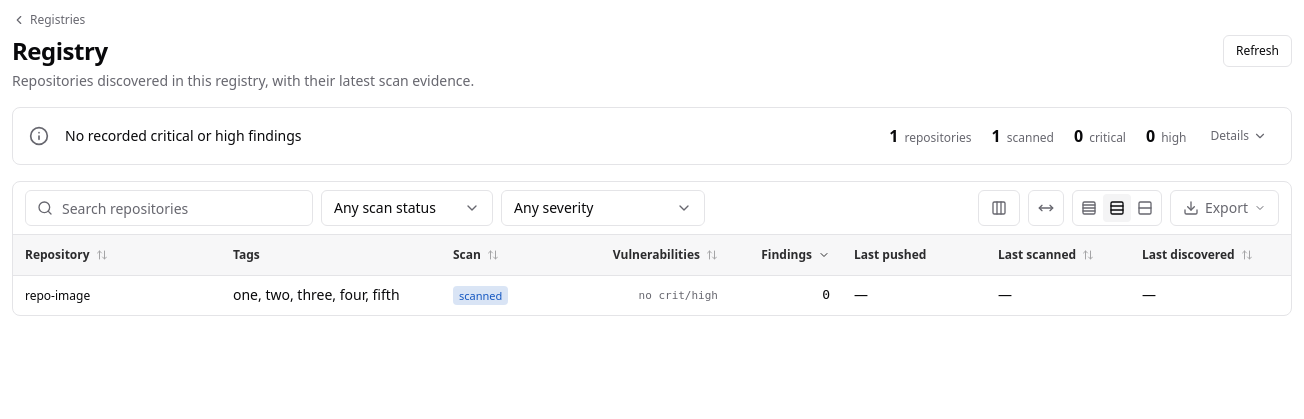
Test: reports matching CSV errors without success
Press Enter in the button "Export", box left=1170, top=190, right=1279, bottom=226
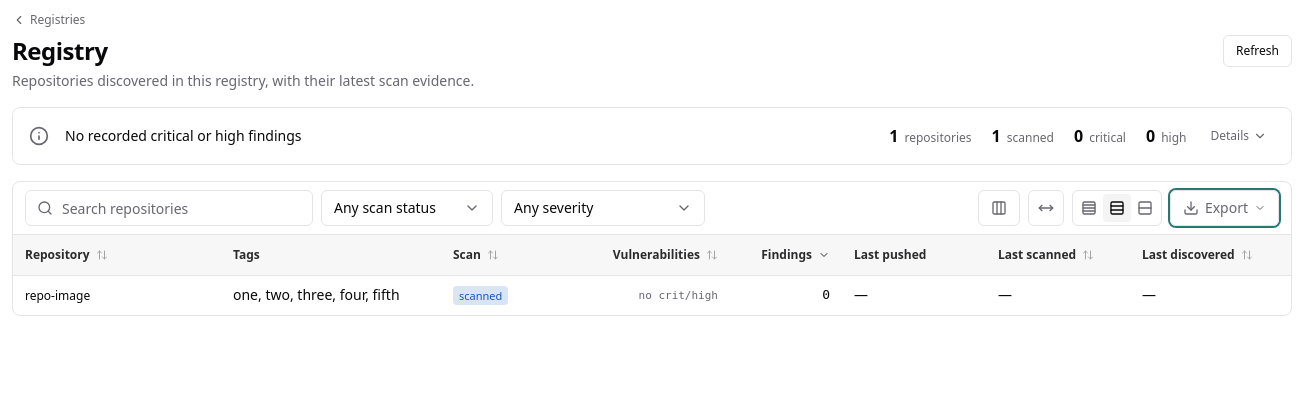
Press Enter in the button "Export", box left=1170, top=190, right=1279, bottom=226
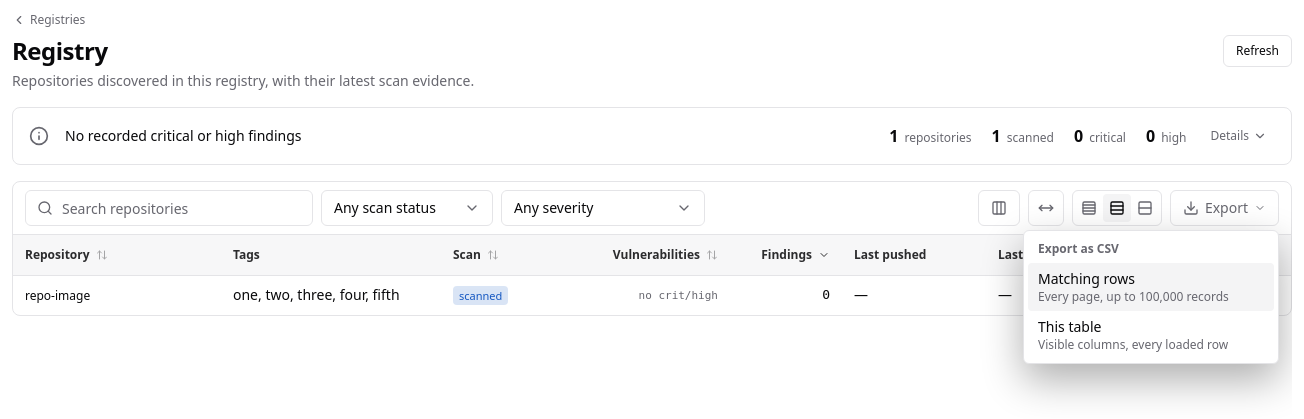
Click the menu item "Matching rows Every page, up to 100,000 records" at point(1151, 287), box left=1028, top=263, right=1274, bottom=311
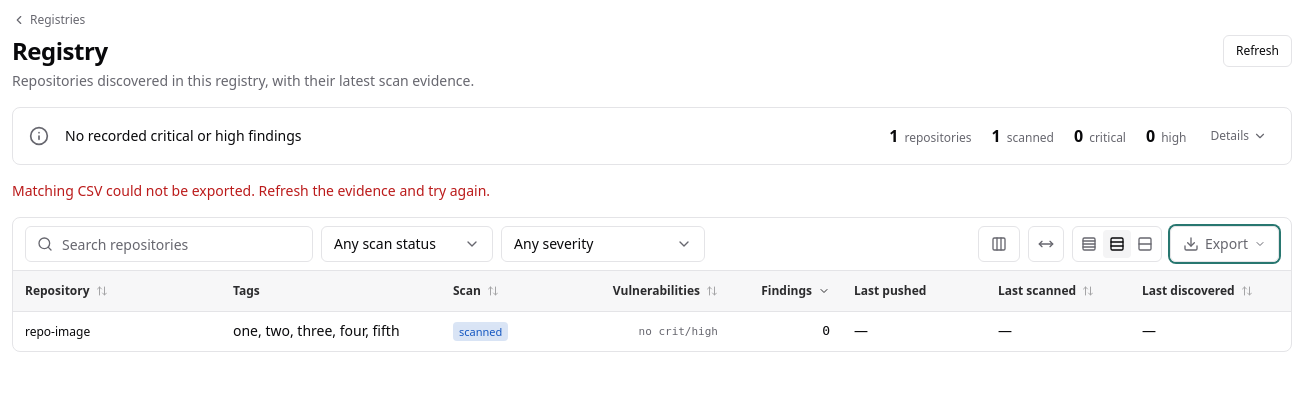
Result: the text "Matching CSV could not be exported" is shown at left=12, top=181, right=490, bottom=200
